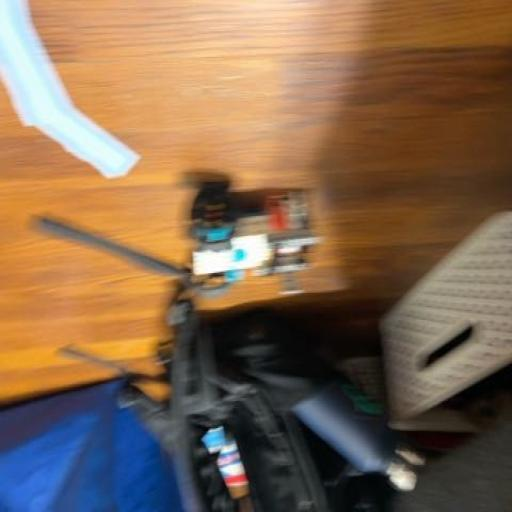Opponent: (181, 182, 325, 300)
